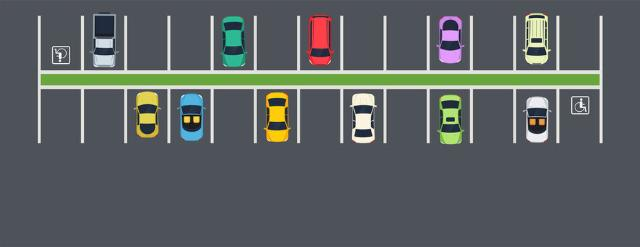Empty: (558, 15, 602, 73), (39, 88, 83, 146), (256, 18, 300, 74), (212, 90, 256, 146), (474, 14, 516, 72), (170, 15, 214, 69), (472, 90, 516, 144), (384, 93, 430, 143), (39, 18, 81, 72), (345, 18, 387, 72), (82, 93, 126, 144), (301, 93, 343, 144), (561, 88, 599, 144), (128, 16, 168, 68), (386, 19, 428, 67)
Filled: (170, 90, 212, 148), (129, 90, 167, 152), (84, 15, 126, 69), (431, 92, 473, 146), (431, 17, 472, 71), (521, 16, 559, 74), (347, 91, 387, 145), (258, 91, 298, 145), (302, 15, 340, 69), (520, 90, 556, 146), (218, 17, 256, 69)
